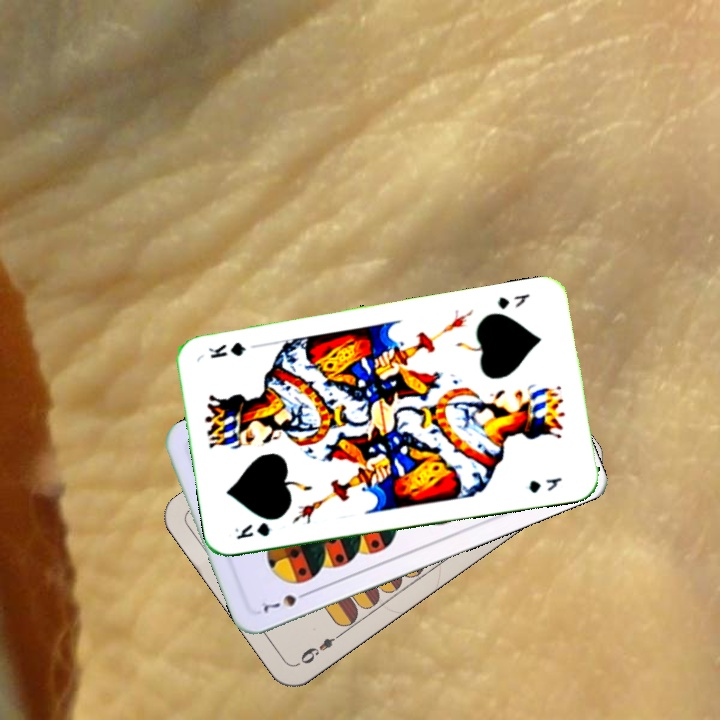E9: (296, 628, 346, 667)
GK: (230, 518, 273, 542), (494, 289, 532, 312)
S7: (257, 587, 313, 614)
